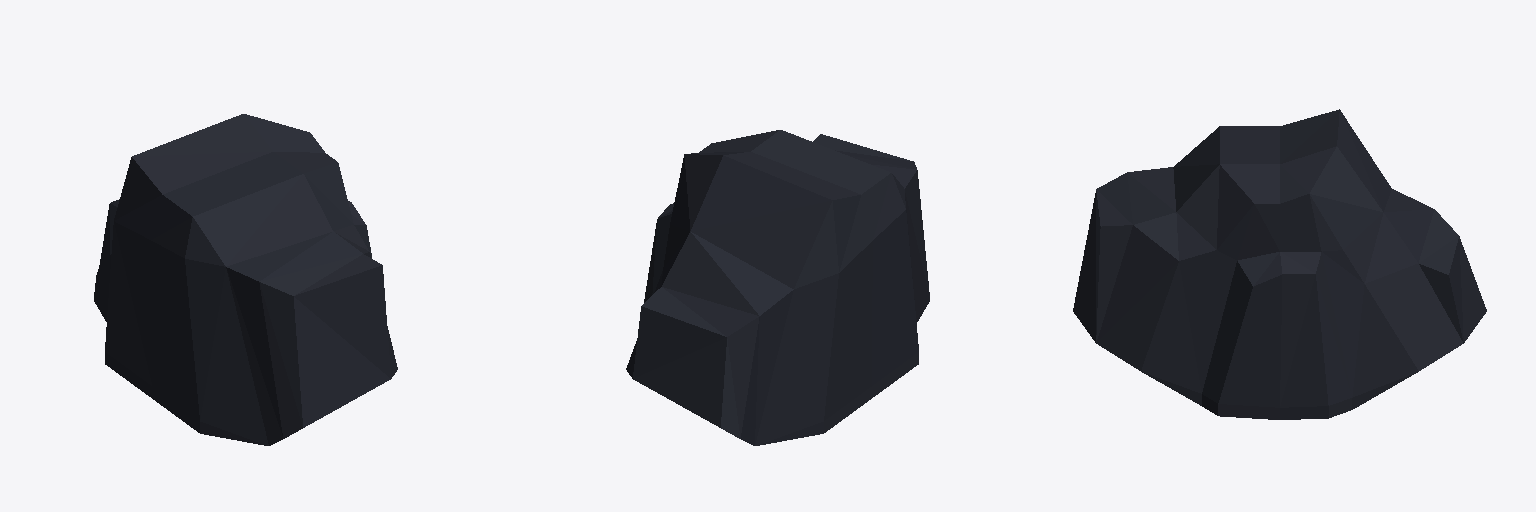
Rendered from Rock_4_Cube.obj.
3 renders of one model, left to right at view 1: azimuth 30°, elevation 25°; view 2: azimuth 150°, elevation 25°; view 3: azimuth 270°, elevation 25°, orthographic.
Parts seen in each view (by area): view 1: Rock_4_Cube.022; view 2: Rock_4_Cube.022; view 3: Rock_4_Cube.022.
Boxes of the visible parts, box(x1,y1,x2,y2) form: Rock_4_Cube.022: box(94, 114, 397, 445); Rock_4_Cube.022: box(626, 130, 929, 445); Rock_4_Cube.022: box(1073, 109, 1486, 419).
Bounding box in the file's own units: 0.7436 × 0.7836 × 1.25.